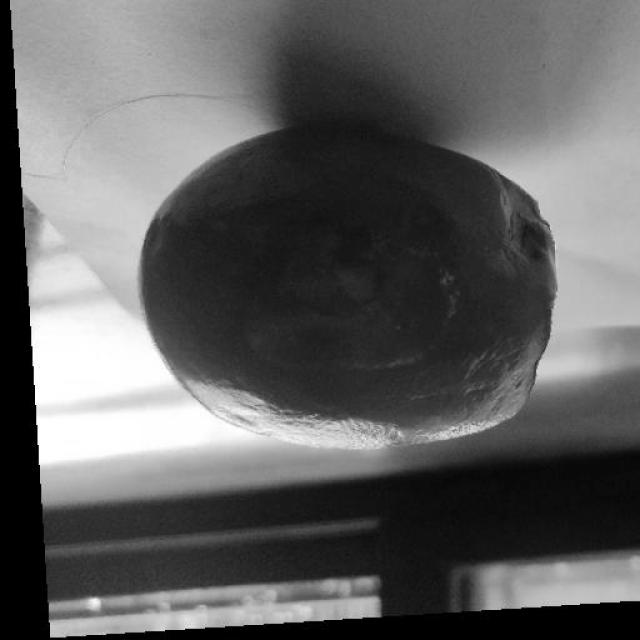Stale_tomato: (135, 121, 571, 449)
